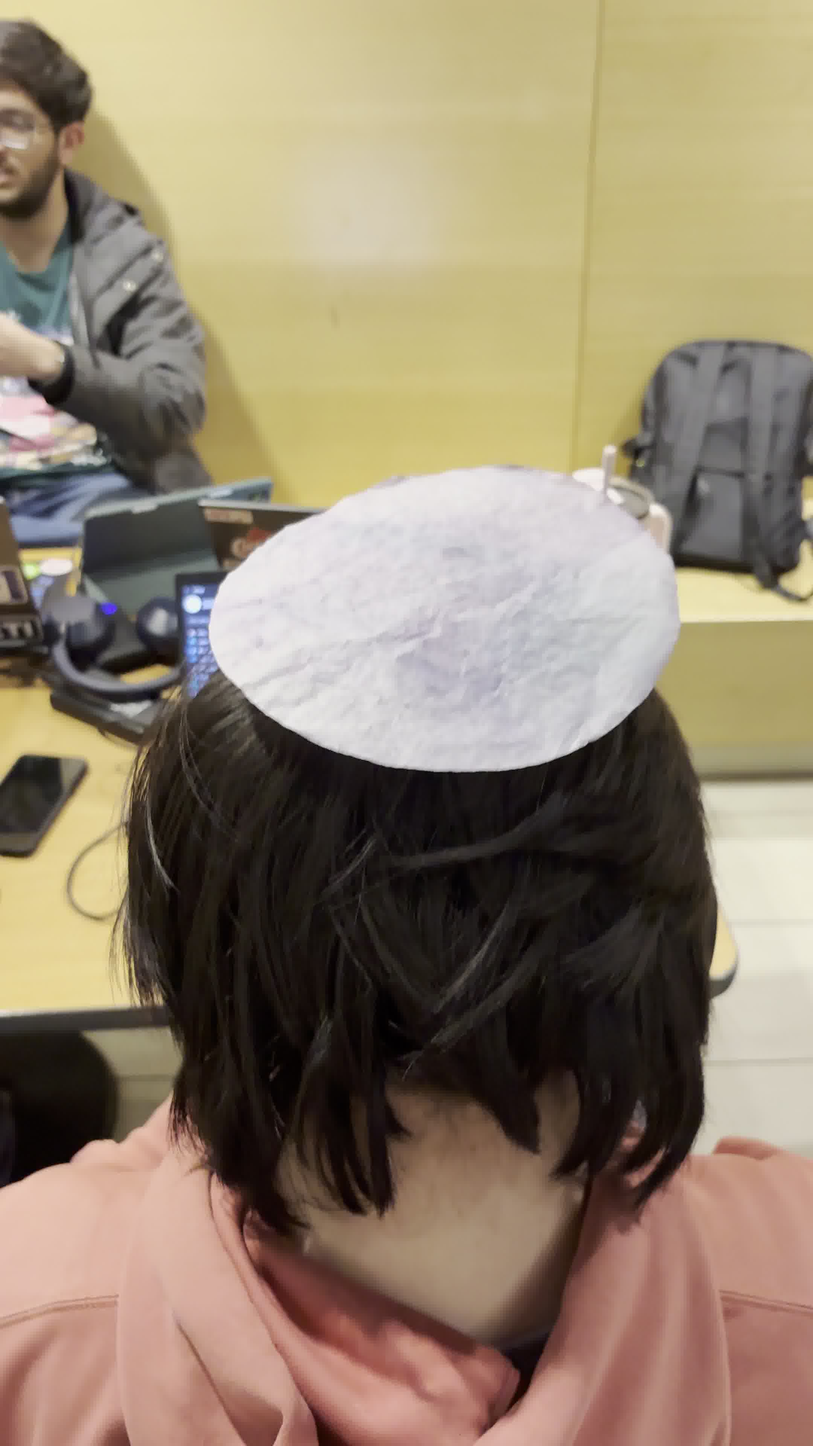Target: (211, 461, 680, 771)
